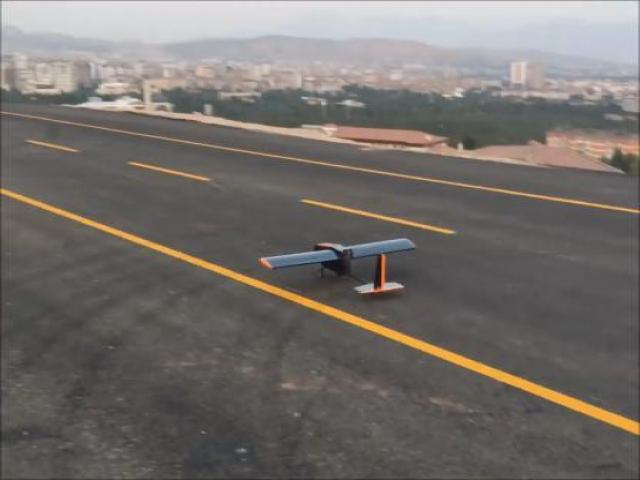uav: (250, 222, 428, 306)
